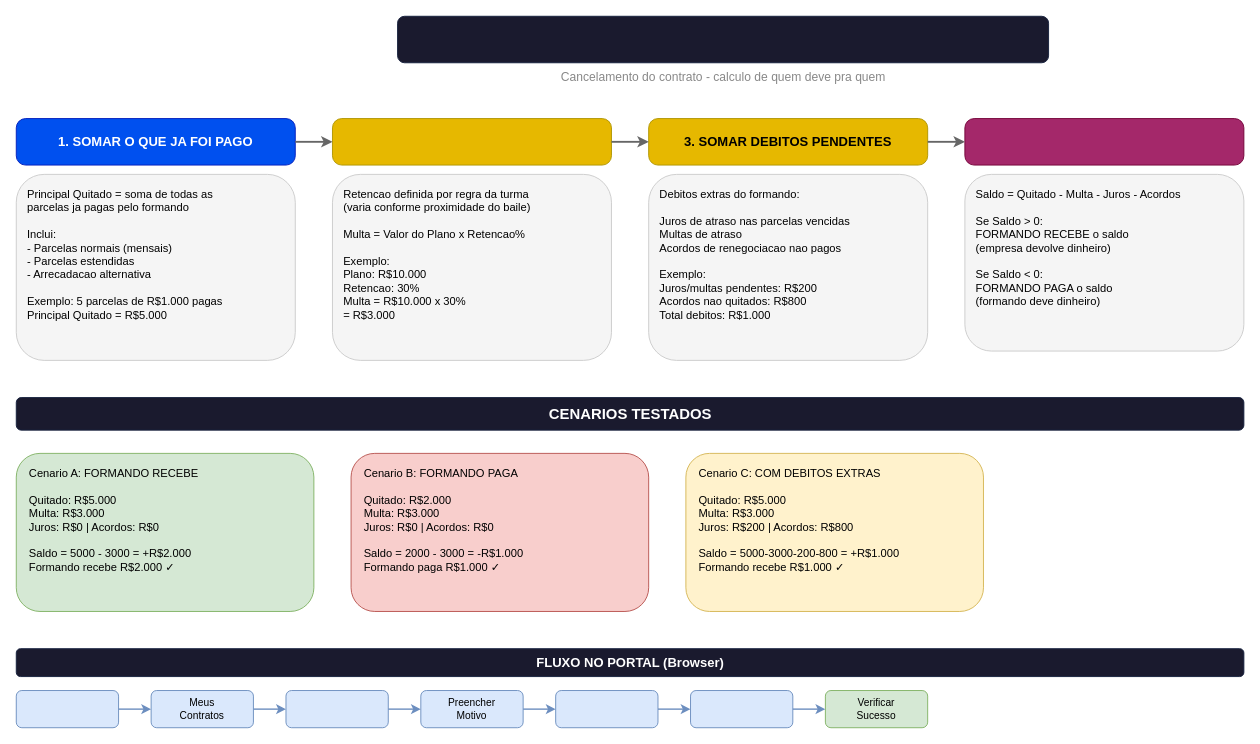
Some shapes in this 1260 by 744 pixel diagram are drawn without their labels. The centre of each missing label's shape, as x and y in pixels:
2. CALCULAR MULTA RESCISORIA: [471,141]
4. CALCULAR SALDO FINAL: [1104,141]
Acoes > Rescisao: [336,709]
Confirmar: [741,709]
Login: [67,709]
RESCISAO CONTRATUAL: [723,39]
Verificar Calculo: [606,709]
